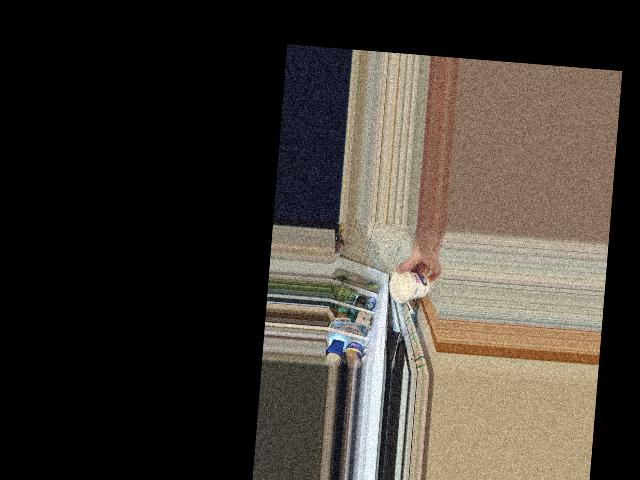cotage: (389, 265, 432, 304)
